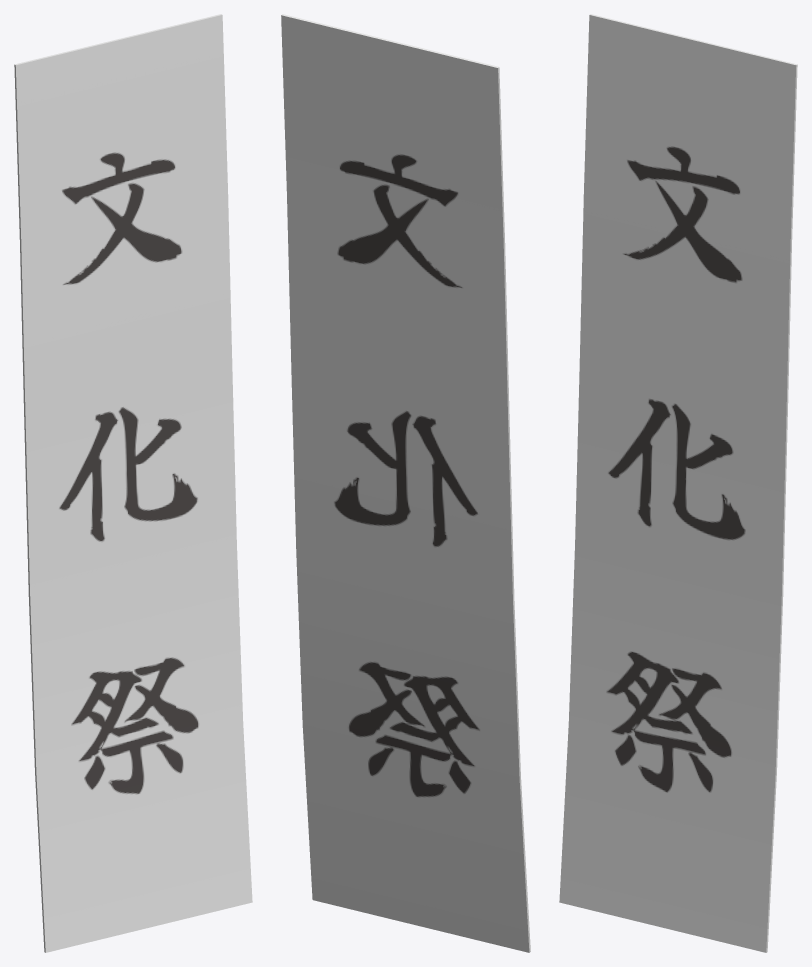
The model's file is SM_banner_culturefestival.fbx.
3 renders of one model, left to right at view 1: azimuth 30°, elevation 25°; view 2: azimuth 150°, elevation 25°; view 3: azimuth 330°, elevation 25°, orthographic. The views are drawn at different scales.
Visible parts, largest first — view 1: banner05; view 2: banner05; view 3: banner05.
Boxes of the visible parts, x1,y1,x2,y2 form: banner05: (14, 14, 252, 952); banner05: (281, 14, 530, 952); banner05: (559, 14, 797, 952).
Size of the model in its own units: 81.34 by 325 by 21.35.
Materials: 1 (1 with a texture image).
